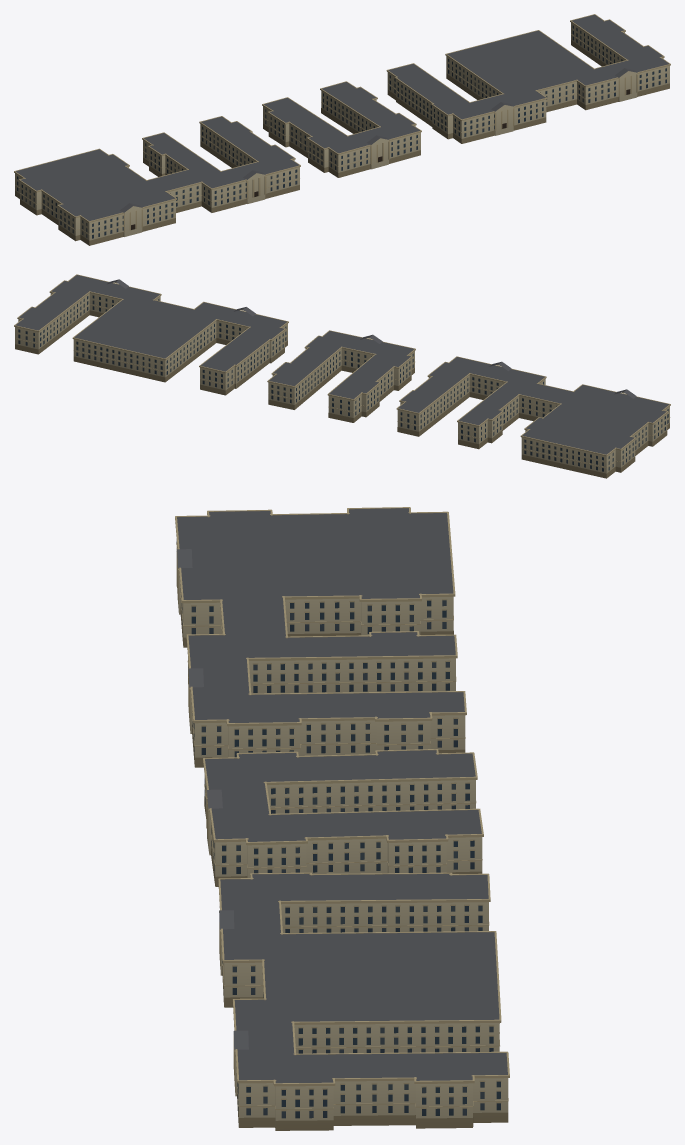
File: shops_n.glb
3 renders of one model, top to bottom at view 1: azimuth 30°, elevation 25°; view 2: azimuth 150°, elevation 25°; view 3: azimuth 270°, elevation 25°, orthographic. The views are drawn at different scales.
Parts seen in each view (by area): view 1: shops_n_lod0; view 2: shops_n_lod0; view 3: shops_n_lod0.
Boxes of the visible parts, x1,y1,x2,y2 form: shops_n_lod0: (14,14,670,245); shops_n_lod0: (14,274,670,478); shops_n_lod0: (175,507,509,1130).
Size of what is drawn, in the model's own units: 466 by 21.35 by 114.
